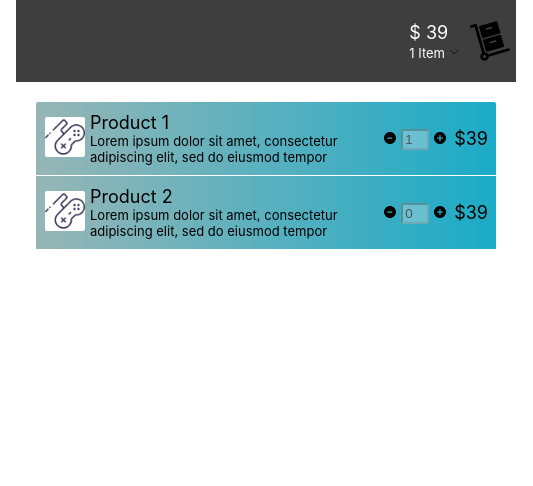
Test: Product component › zooms on product image on click
The width and height of the screenshot is (533, 486).
Click the 1st picture with test id "product-image-zoom": (65, 136) top-left (45, 116), bottom-right (85, 156)
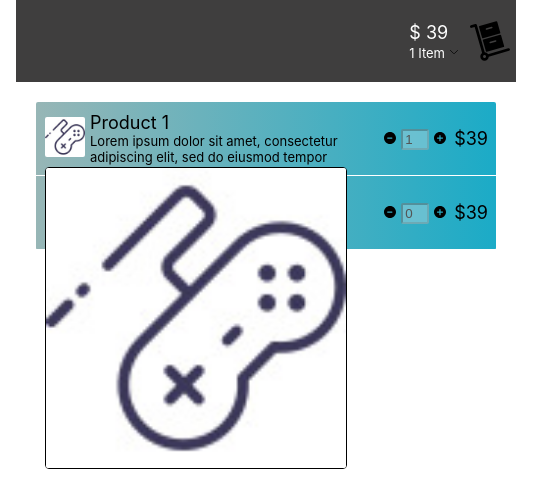
Expected: the number of elements with test id "product-image-on-zoom" is 1, top-left (45, 166), bottom-right (347, 468)
